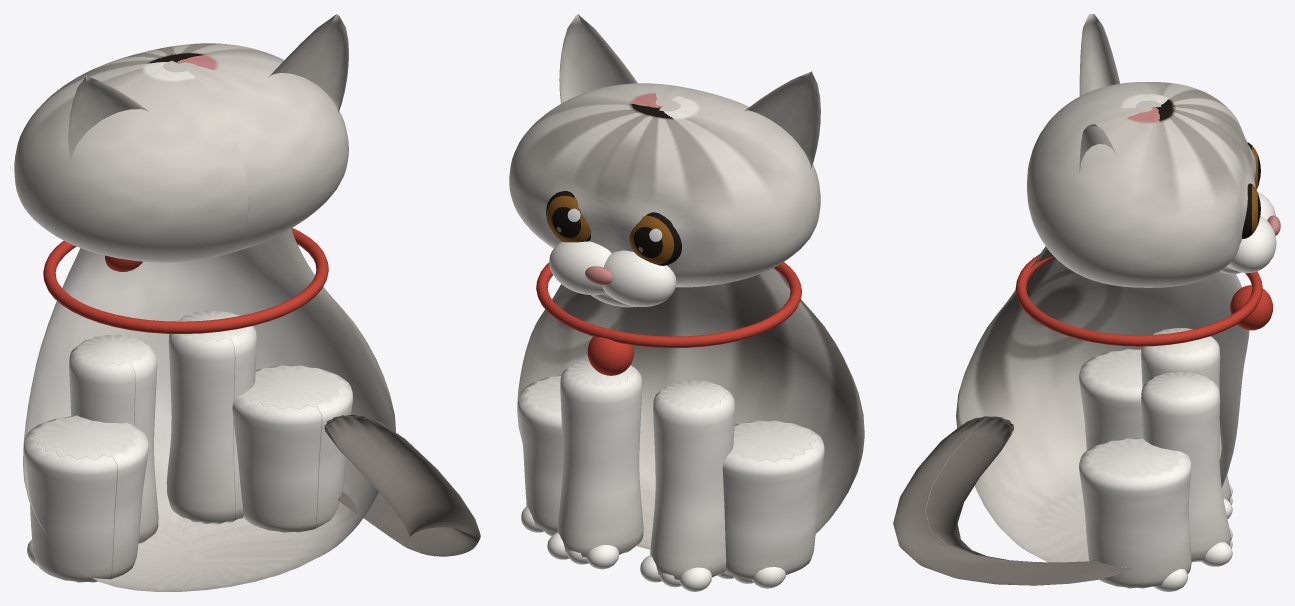
The model's file is pulu-kitten.glb.
3 views of the same model, side by side, from view 1: azimuth 30°, elevation 25°; view 2: azimuth 150°, elevation 25°; view 3: azimuth 270°, elevation 25° (orthographic). The views are drawn at different scales.
Visible parts, largest first — view 1: PULU_fur, PULU_red; view 2: PULU_fur, PULU_red, PULU_eye; view 3: PULU_fur, PULU_red, PULU_eye.
Part boxes in pixels (x1,y1,x2,y2): PULU_fur: (14,14,480,591); PULU_red: (43,228,328,333); PULU_fur: (509,14,864,591); PULU_red: (536,262,801,375); PULU_eye: (546,191,681,265); PULU_fur: (893,14,1280,591); PULU_red: (1015,254,1273,346); PULU_eye: (1242,142,1260,238).
Bounding box in the file's own units: 0.7097 × 1 × 0.7514.
3 materials, 2 textured.
